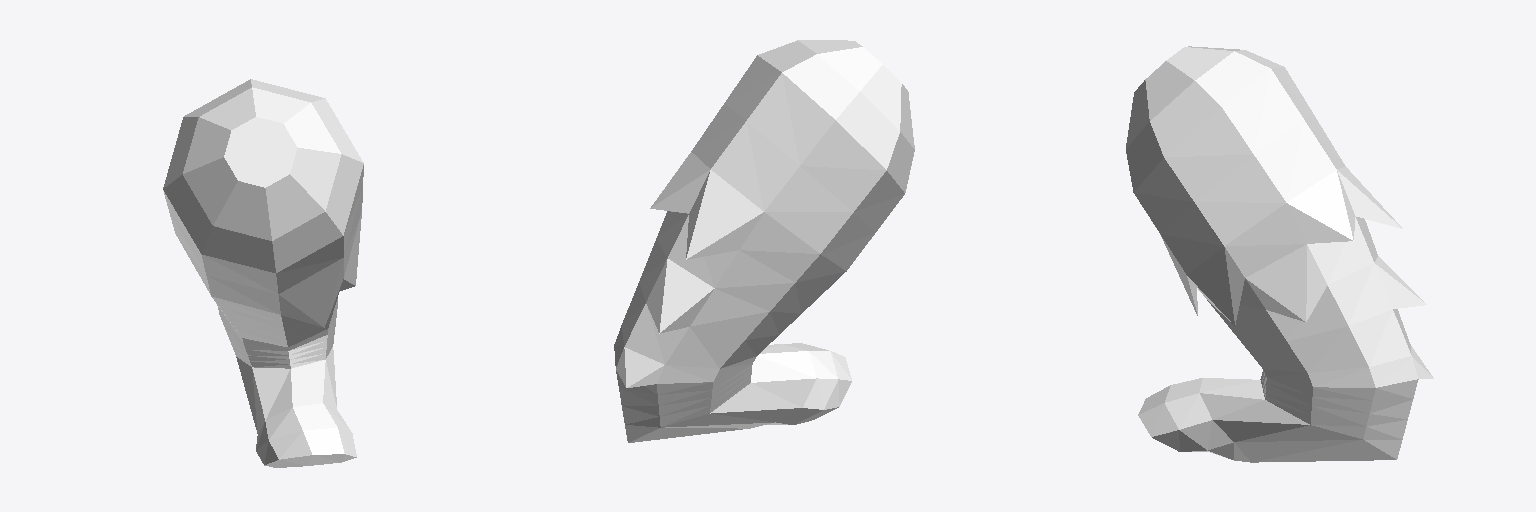
File: UpLegR.obj
3 views of the same model, side by side, from view 1: azimuth 30°, elevation 25°; view 2: azimuth 150°, elevation 25°; view 3: azimuth 270°, elevation 25° (orthographic).
Parts seen in each view (by area): view 1: Upperlegr1; view 2: Upperlegr1; view 3: Upperlegr1.
Part boxes in pixels (bbox=[...]): Upperlegr1: bbox=[163, 79, 363, 467]; Upperlegr1: bbox=[614, 40, 914, 442]; Upperlegr1: bbox=[1126, 46, 1433, 462].
Size of the model in its own units: 2.7 by 4.67 by 3.41.